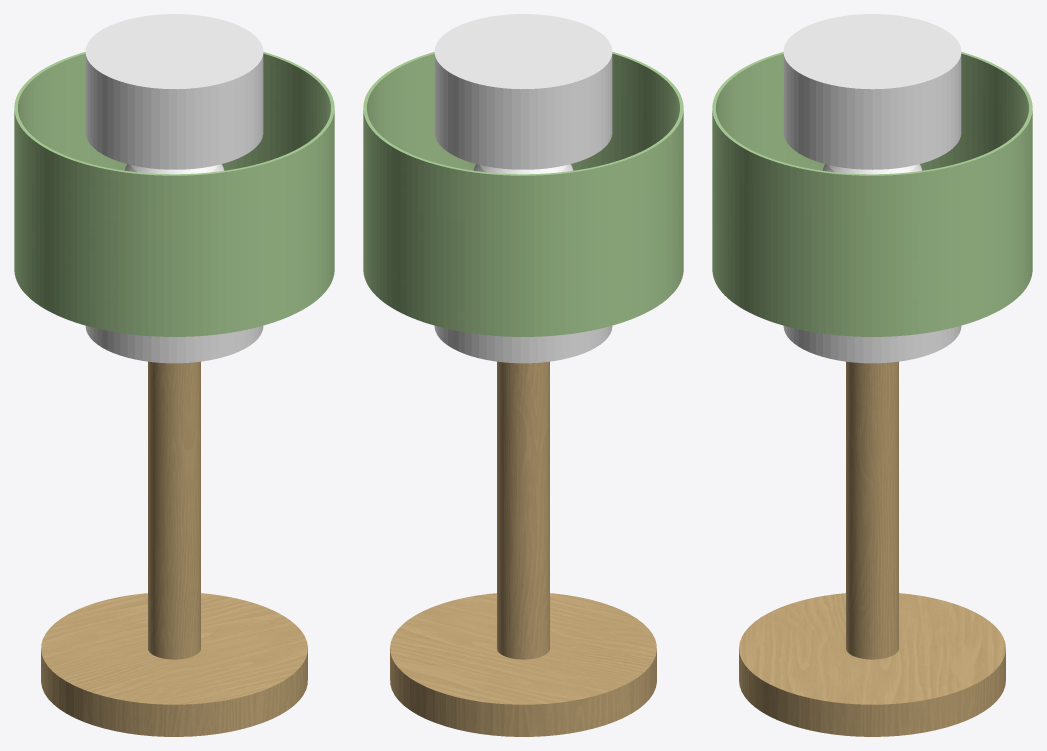
File: GREEN_OFF.glb
The picture shows the model from 3 angles, left to right: view 1: azimuth 30°, elevation 25°; view 2: azimuth 150°, elevation 25°; view 3: azimuth 270°, elevation 25°; orthographic projection.
Visible parts, largest first — view 1: SHELL, BASE, INNER_TOP, INNER_BOT, BULB; view 2: SHELL, BASE, INNER_TOP, INNER_BOT, BULB; view 3: SHELL, BASE, INNER_TOP, INNER_BOT, BULB.
Boxes of the visible parts, left/top/right/bottom form: SHELL: left=14, top=52, right=334, bottom=336; BASE: left=41, top=361, right=307, bottom=736; INNER_TOP: left=85, top=14, right=263, bottom=169; INNER_BOT: left=85, top=326, right=263, bottom=363; BULB: left=124, top=164, right=224, bottom=174; SHELL: left=363, top=52, right=683, bottom=336; BASE: left=390, top=361, right=656, bottom=736; INNER_TOP: left=434, top=14, right=612, bottom=169; INNER_BOT: left=434, top=326, right=612, bottom=363; BULB: left=473, top=164, right=573, bottom=174; SHELL: left=712, top=52, right=1032, bottom=336; BASE: left=739, top=361, right=1005, bottom=736; INNER_TOP: left=783, top=14, right=961, bottom=169; INNER_BOT: left=783, top=326, right=961, bottom=363; BULB: left=822, top=164, right=922, bottom=174.
Size of the model in its own units: 0.18 by 0.39 by 0.18.
3 materials, 3 textured.
